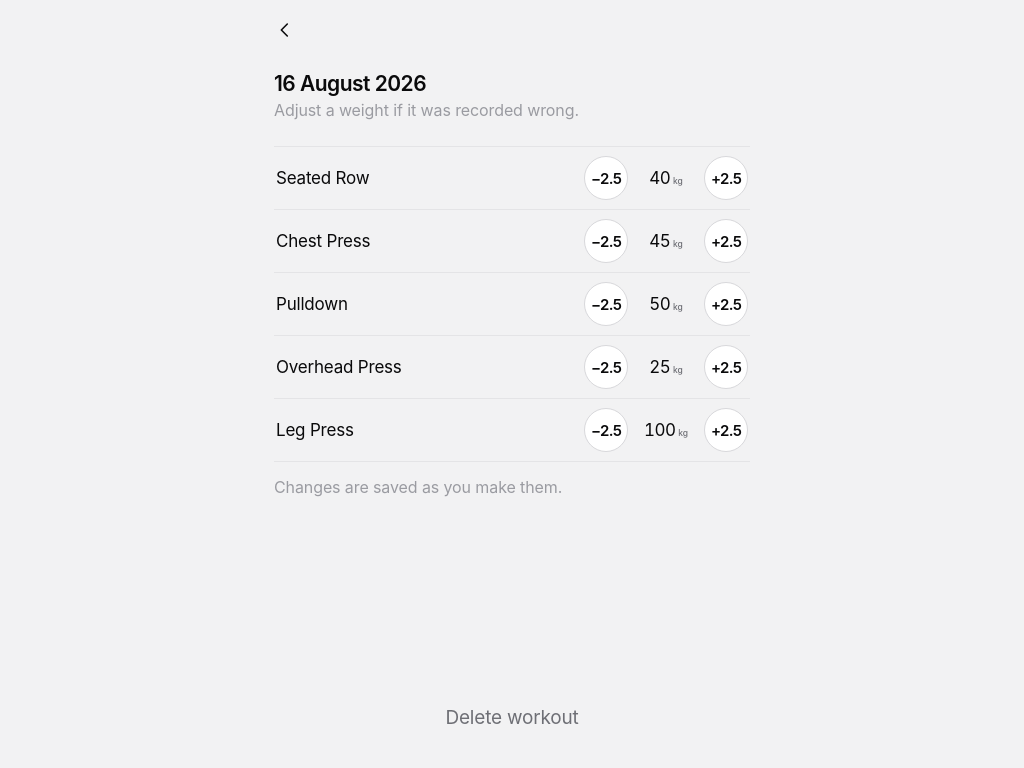
Test case: correcting a past workout › leads the delete question with Delete, not with Cancel
This screenshot has width=1024, height=768.
Expected: the text "Seated Row" is shown, [276, 165, 370, 191]
Click the button "Delete workout": (512, 718) [274, 692, 750, 744]
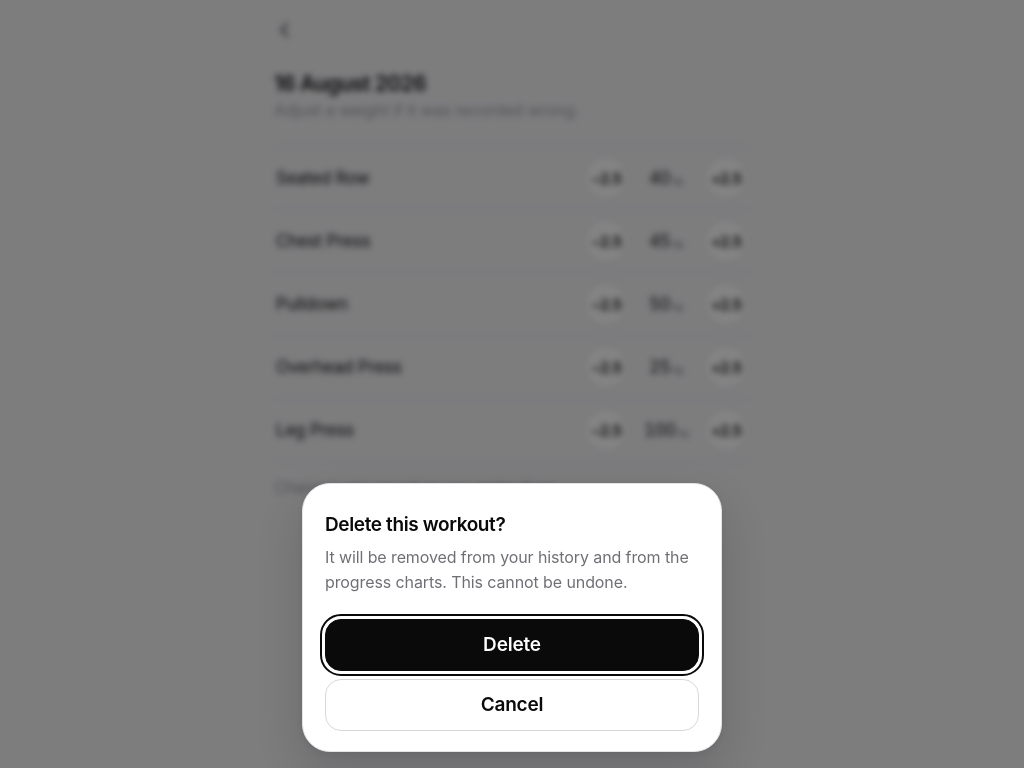
Click the button "Cancel": (512, 705) [325, 679, 699, 731]
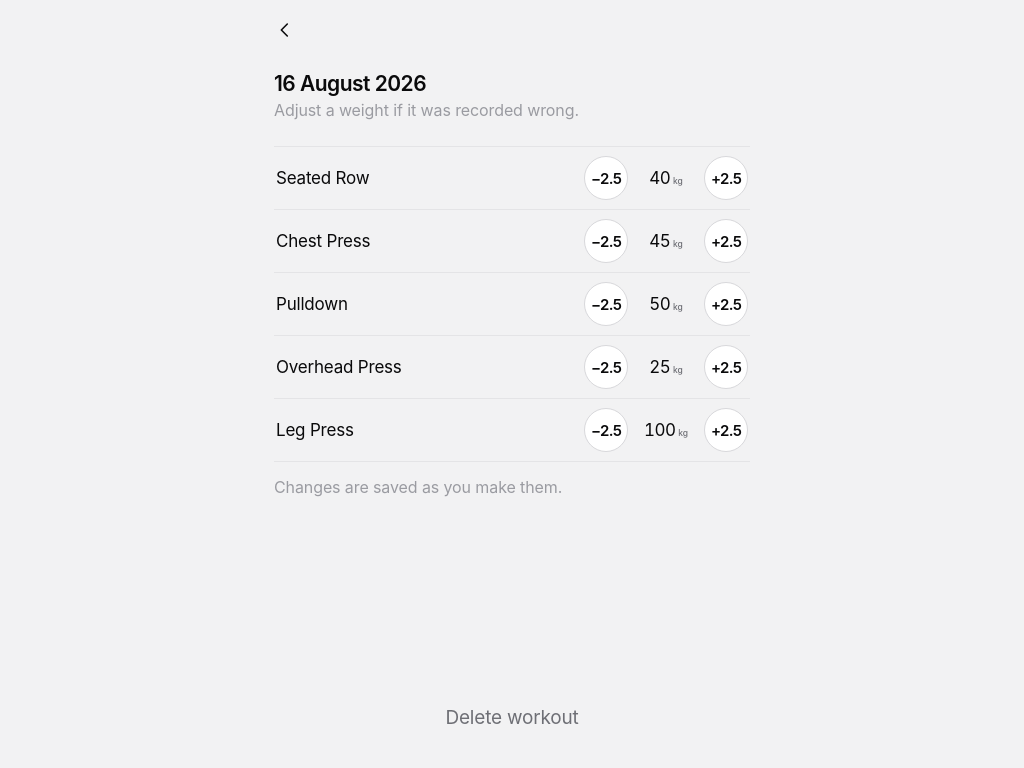
Now the dialog is gone
